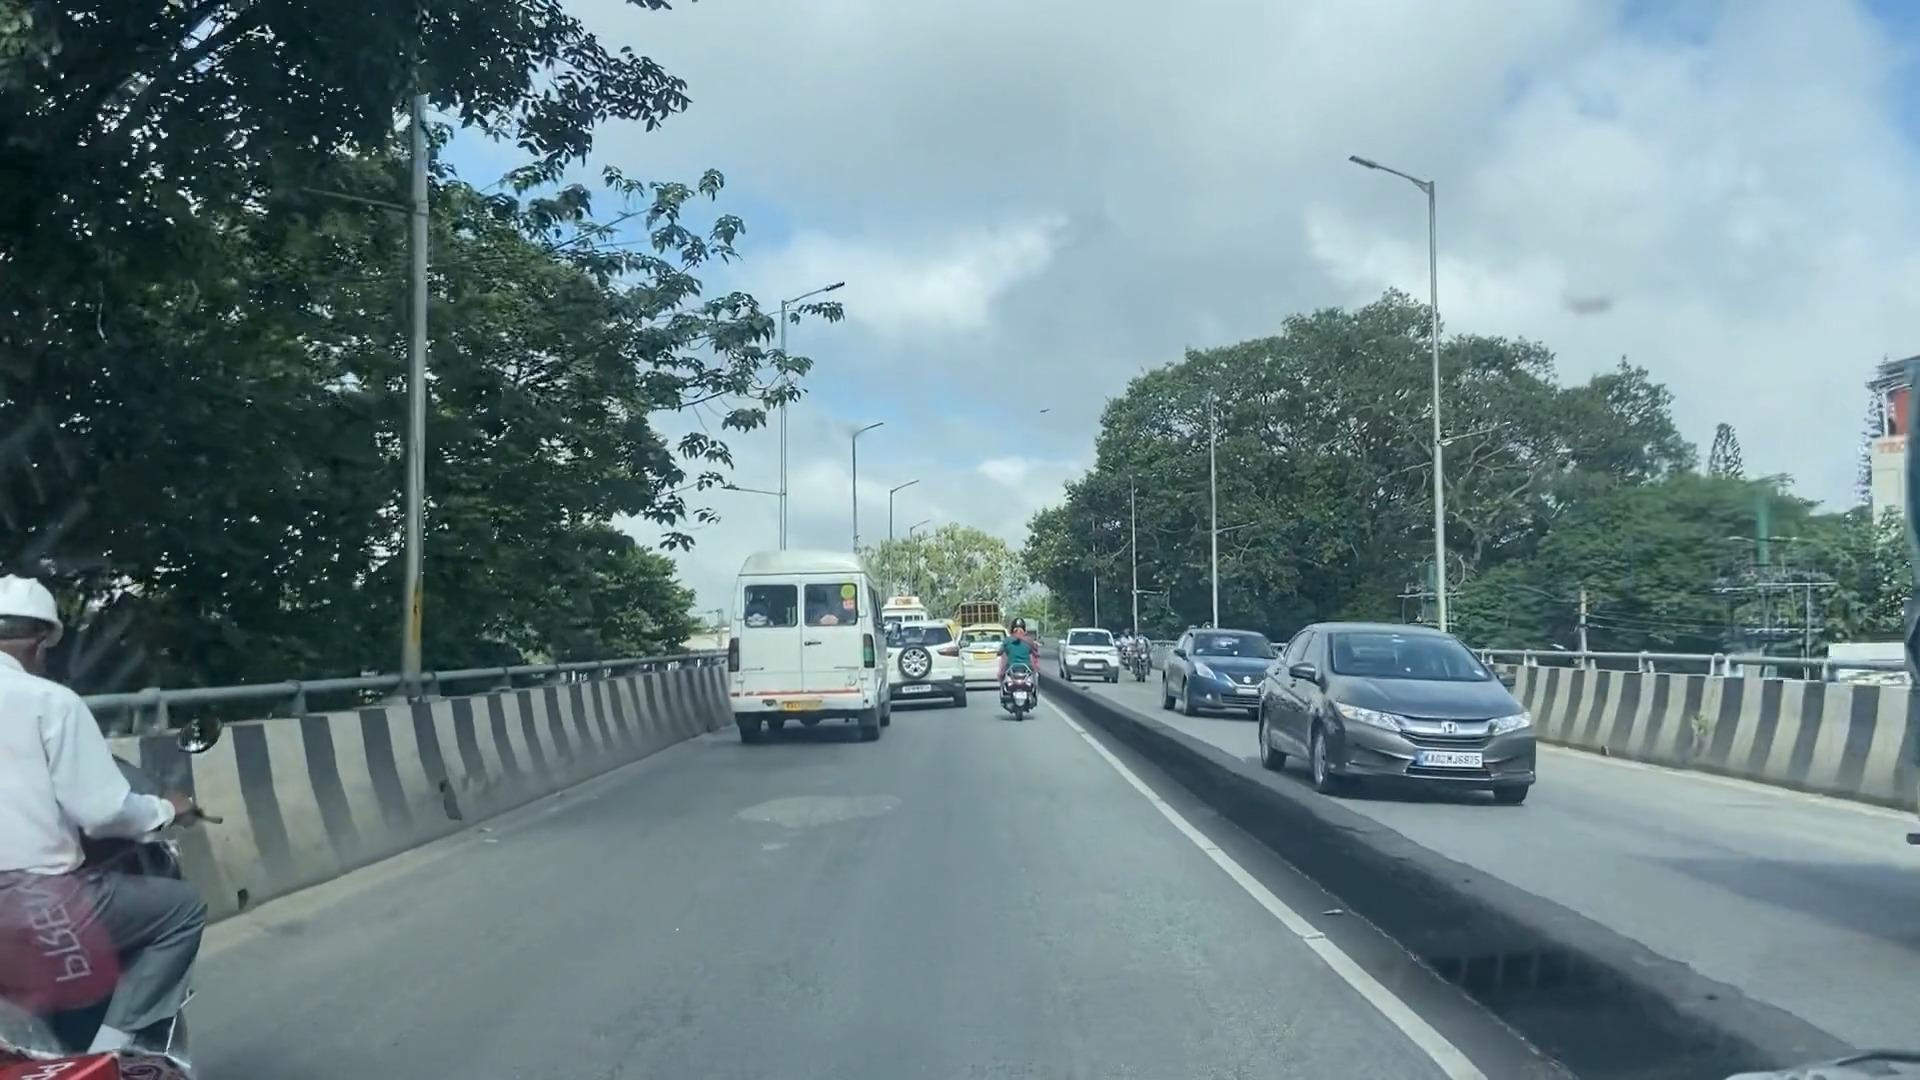HMV: (729, 553, 882, 741)
LMV: (997, 615, 1030, 720)
RoadDamages: (729, 782, 870, 831)
